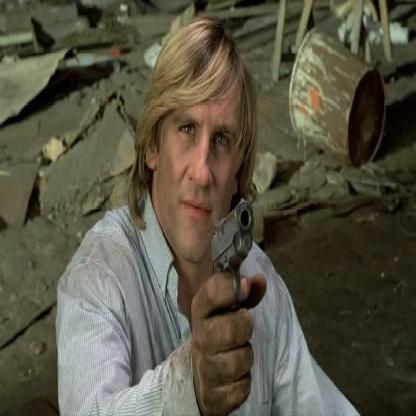gun: (195, 191, 259, 307)
